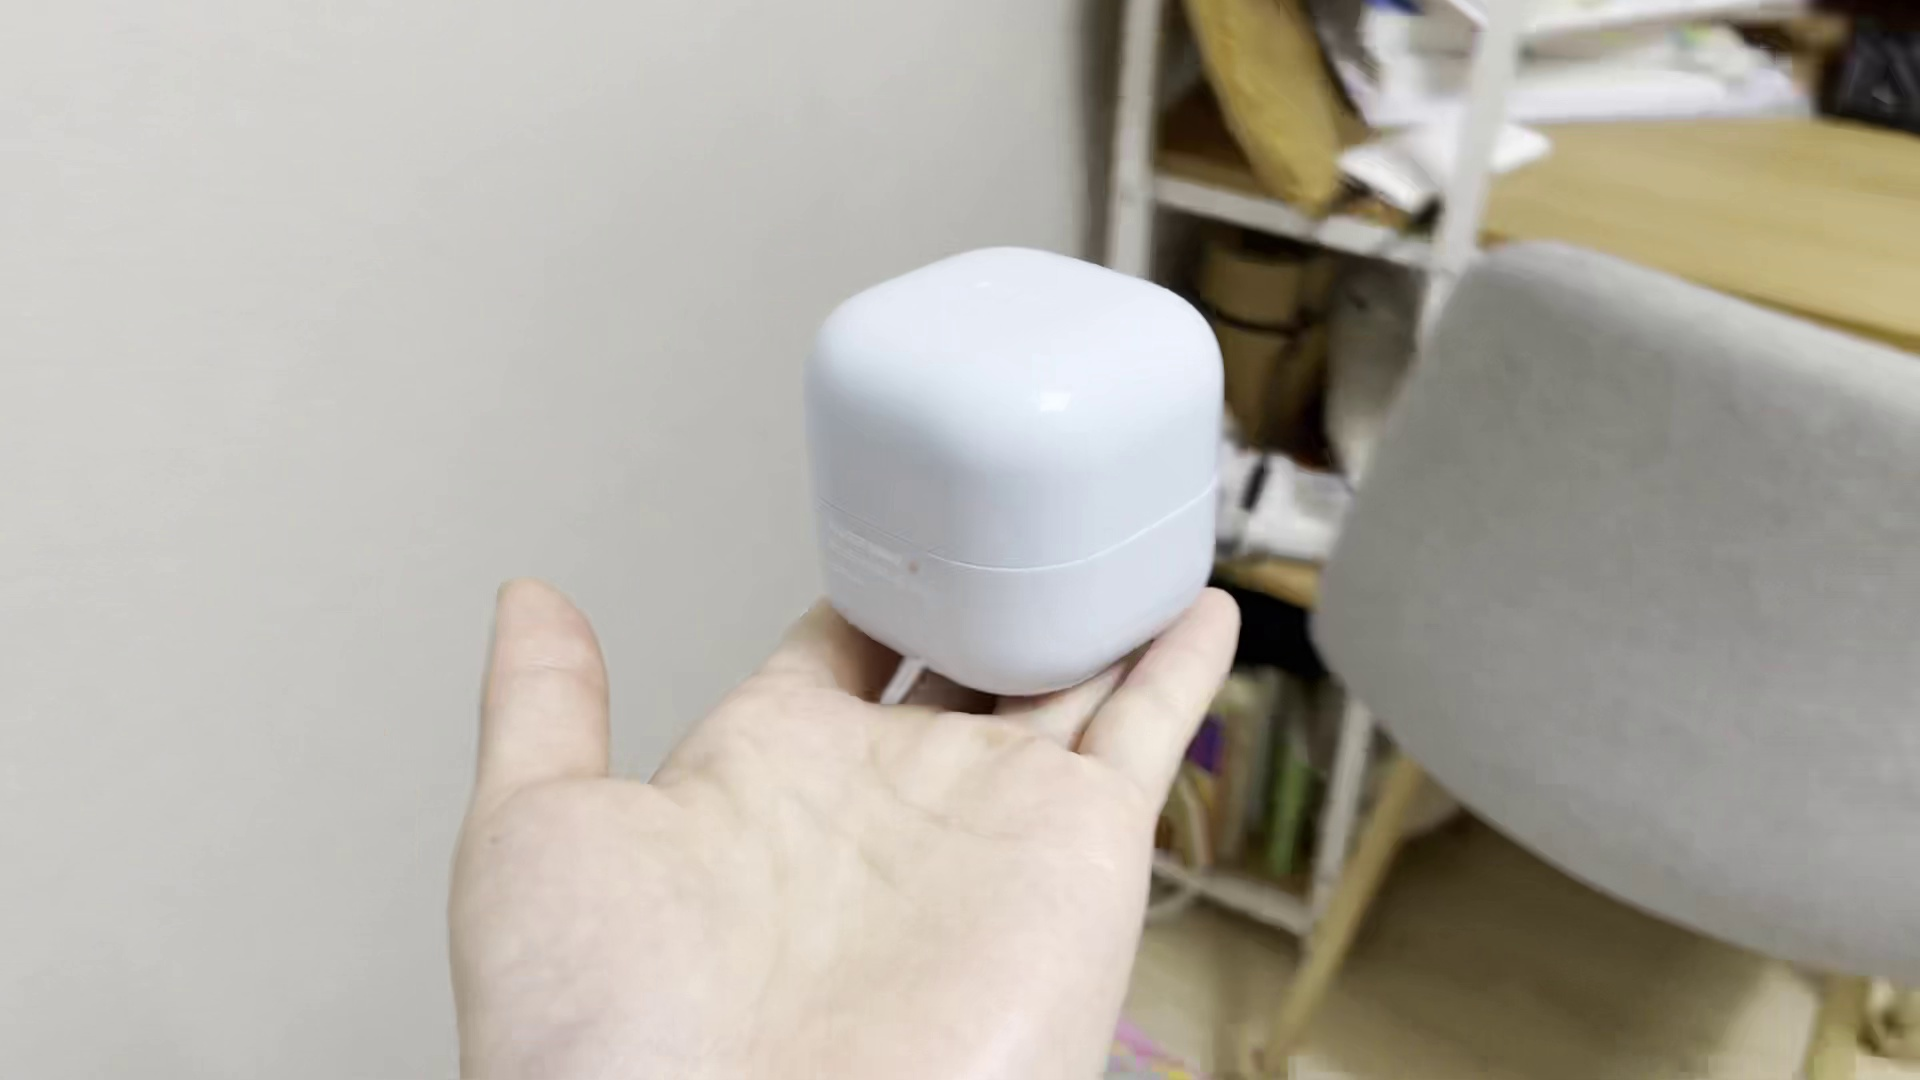cream: (798, 240, 1216, 696)
